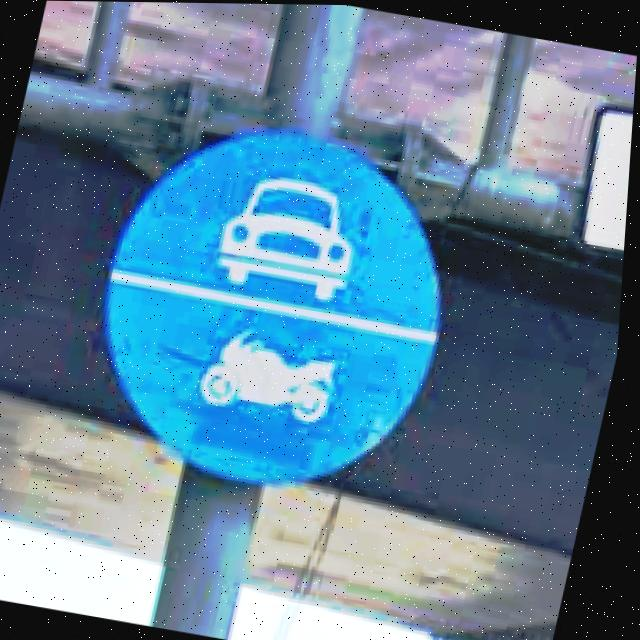carmotorcycle: (106, 129, 448, 490)
